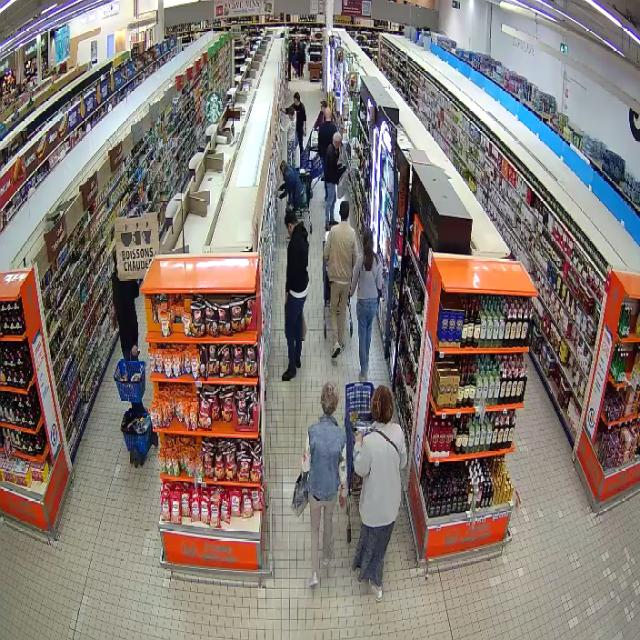bags: (289, 471, 308, 517)
hands: (131, 345, 139, 357), (338, 496, 346, 508), (355, 434, 362, 442), (277, 187, 283, 191), (278, 196, 282, 200)
person: (352, 386, 407, 600), (302, 382, 345, 587), (324, 201, 358, 359), (350, 228, 384, 380), (282, 211, 308, 380), (112, 269, 138, 360), (325, 131, 345, 229), (277, 161, 305, 212)
